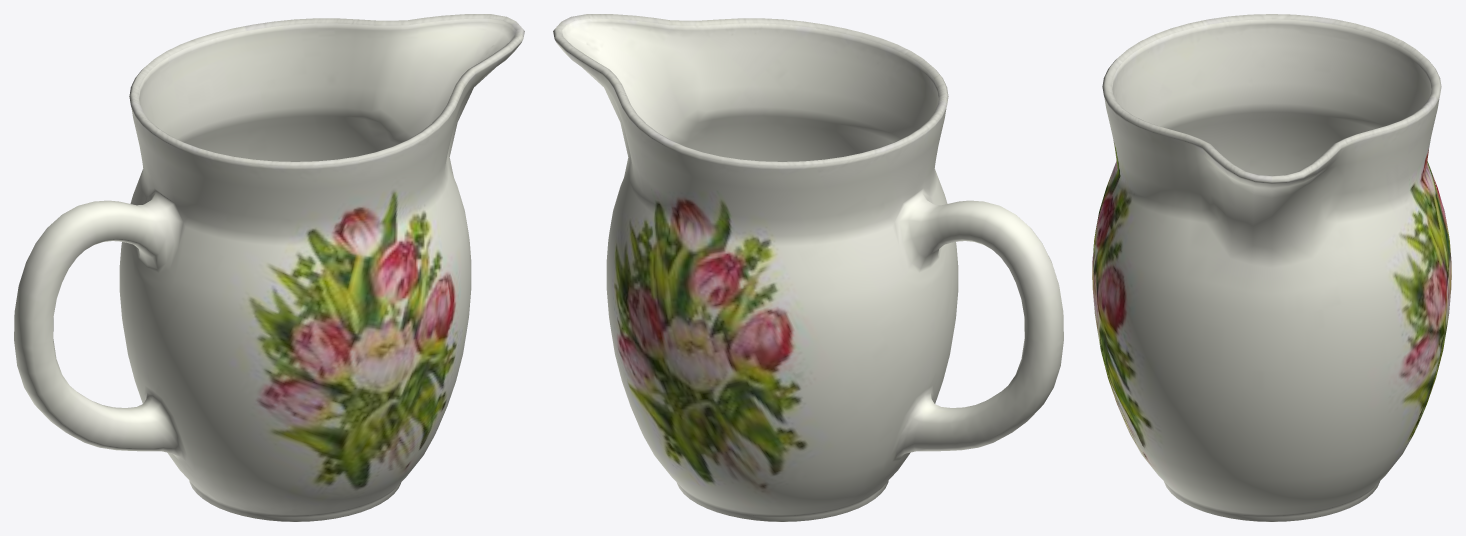
3 views of the same model, side by side, from view 1: azimuth 30°, elevation 25°; view 2: azimuth 150°, elevation 25°; view 3: azimuth 270°, elevation 25° (orthographic). The views are drawn at different scales.
Visible parts, largest first — view 1: jug_01; view 2: jug_01; view 3: jug_01.
Part boxes in pixels (bbox=[...]): jug_01: bbox=[14, 14, 524, 521]; jug_01: bbox=[553, 14, 1063, 521]; jug_01: bbox=[1092, 14, 1451, 521].
Bounding box in the file's own units: 0.2753 × 0.2113 × 0.1675.
1 material, 1 textured.
